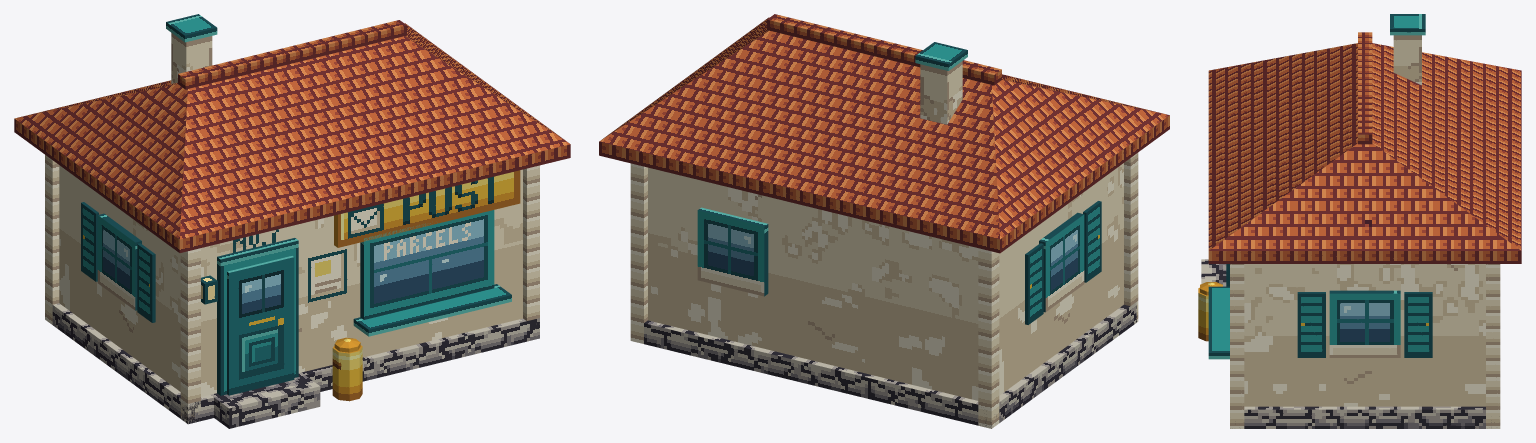
File: post-office.glb
3 renders of one model, left to right at view 1: azimuth 30°, elevation 25°; view 2: azimuth 150°, elevation 25°; view 3: azimuth 270°, elevation 25°, orthographic. The views are drawn at different scales.
Parts seen in each view (by area): view 1: post-office__roof, post-office__body, post-office__counter, post-office__plinth, post-office__door, post-office__sign, post-office__ridge, post-office__corner~x, post-office__step, post-office__door_frame, post-office__side_win~x, post-office__ledge (+7 smaller); view 2: post-office__roof, post-office__body, post-office__plinth, post-office__back_win, post-office__corner~xz, post-office__ridge, post-office__side_win~x, post-office__corner~z, post-office__corner~x, post-office__chimney, post-office__shutter~xz, post-office__shutter~x (+1 smaller); view 3: post-office__roof, post-office__body, post-office__plinth, post-office__side_win, post-office__corner, post-office__corner~z, post-office__shutter, post-office__shutter~z, post-office__ridge, post-office__ledge, post-office__chimney, post-office__chimney_cap (+2 smaller).
Part boxes in pixels (box(x1,y1,x2,y2)): post-office__roof: box(14, 23, 570, 252); post-office__body: box(59, 165, 522, 396); post-office__counter: box(360, 210, 494, 319); post-office__plinth: box(52, 303, 539, 424); post-office__door: box(227, 256, 294, 395); post-office__sign: box(334, 170, 520, 247); post-office__ridge: box(178, 20, 406, 89); post-office__corner~x: box(180, 248, 200, 423); post-office__step: box(214, 375, 320, 428); post-office__door_frame: box(217, 238, 298, 395); post-office__side_win~x: box(97, 213, 141, 310); post-office__ledge: box(353, 284, 511, 336); post-office__roof: box(599, 17, 1169, 253); post-office__body: box(648, 163, 1123, 400); post-office__plinth: box(644, 302, 1136, 428); post-office__back_win: box(697, 207, 768, 296); post-office__corner~xz: box(978, 248, 999, 428); post-office__ridge: box(767, 14, 1001, 85); post-office__side_win~x: box(1039, 212, 1084, 312); post-office__corner~z: box(630, 163, 647, 343); post-office__corner~x: box(1124, 152, 1138, 322); post-office__chimney: box(920, 61, 962, 124); post-office__shutter~xz: box(1025, 243, 1043, 324); post-office__shutter~x: box(1083, 201, 1101, 282); post-office__roof: box(1208, 43, 1521, 263); post-office__body: box(1244, 264, 1485, 406); post-office__plinth: box(1230, 406, 1491, 428); post-office__side_win: box(1329, 290, 1400, 357); post-office__corner: box(1230, 264, 1244, 428); post-office__corner~z: box(1486, 264, 1500, 428); post-office__shutter: box(1297, 292, 1325, 357); post-office__shutter~z: box(1404, 292, 1432, 357); post-office__ridge: box(1358, 32, 1372, 144); post-office__ledge: box(1208, 286, 1229, 359); post-office__chimney: box(1393, 35, 1421, 85); post-office__chimney_cap: box(1390, 14, 1425, 35).
Size of the model in its own units: 8 by 6 by 6.06.
16 materials, 16 textured.
